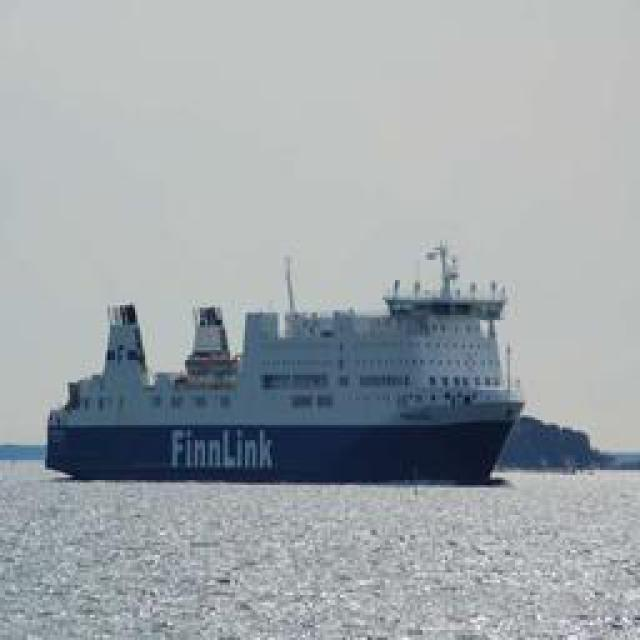Ship: (55, 285, 528, 485)
